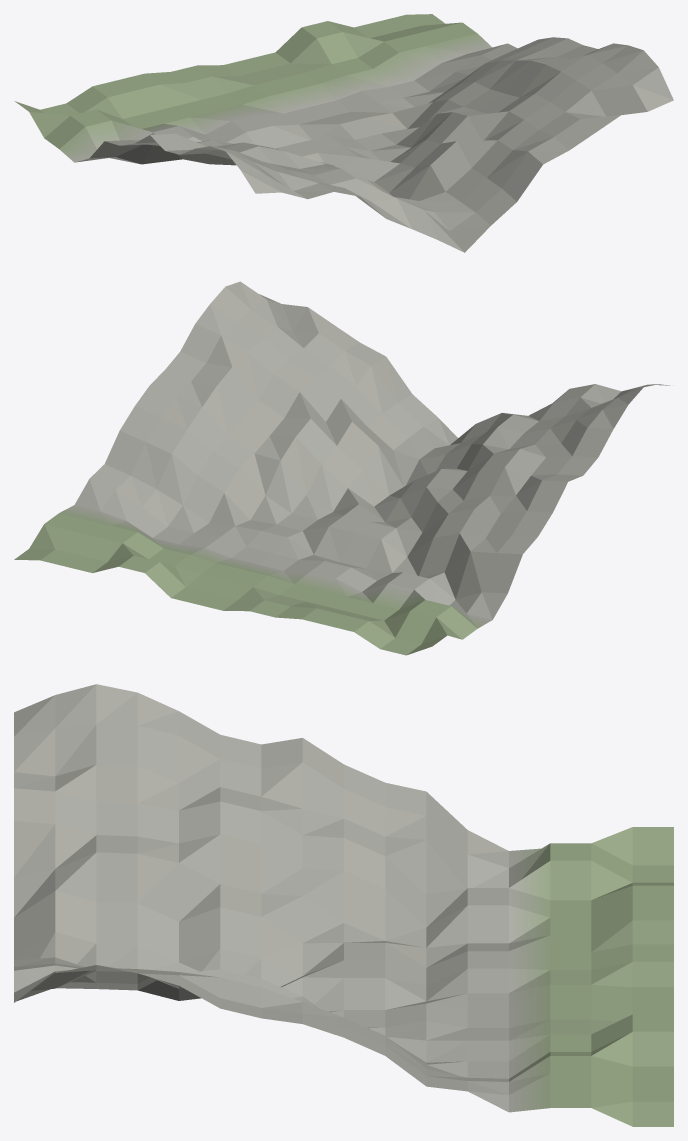
3 renders of one model, top to bottom at view 1: azimuth 30°, elevation 25°; view 2: azimuth 150°, elevation 25°; view 3: azimuth 270°, elevation 25°, orthographic. The views are drawn at different scales.
Size of the model in its own units: 32 by 9.59 by 32.
